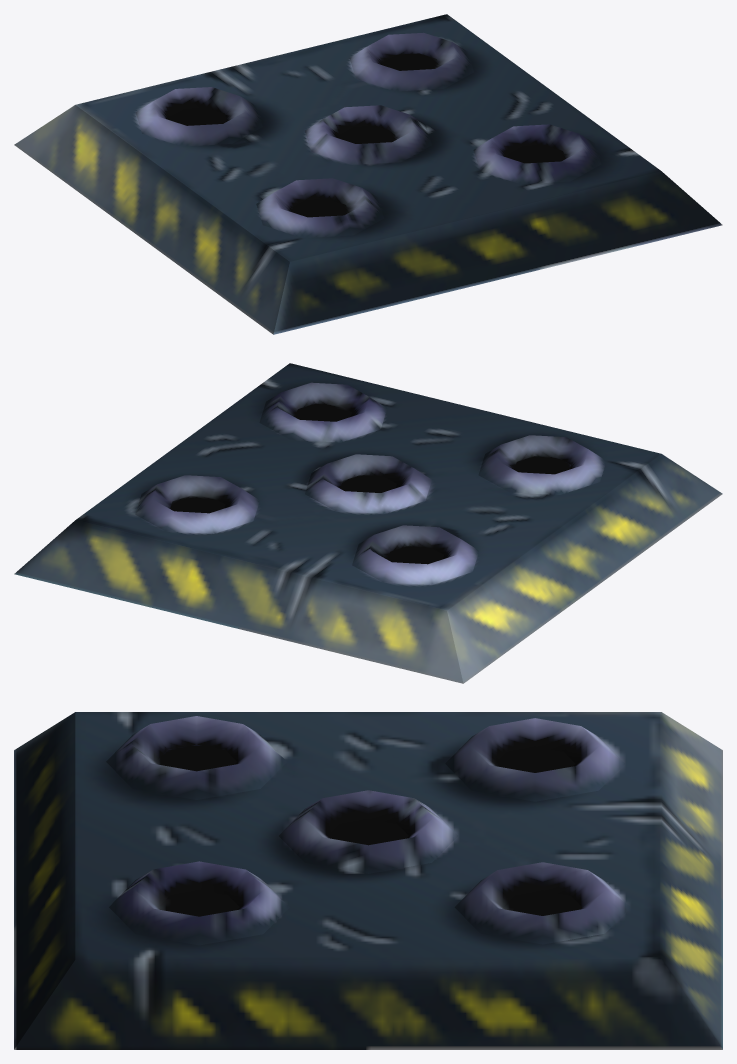
Rendered from spikesTrap.FBX.
3 renders of one model, top to bottom at view 1: azimuth 30°, elevation 25°; view 2: azimuth 150°, elevation 25°; view 3: azimuth 270°, elevation 25°, orthographic. The views are drawn at different scales.
Parts seen in each view (by area): view 1: spikeTrap_Base; view 2: spikeTrap_Base; view 3: spikeTrap_Base.
Boxes of the visible parts, left/top/right/bottom form: spikeTrap_Base: left=14, top=14, right=722, bottom=334; spikeTrap_Base: left=14, top=363, right=722, bottom=683; spikeTrap_Base: left=14, top=712, right=722, bottom=1049.
Bounding box in the file's own units: 0.0254 × 0.0254 × 0.00326.
